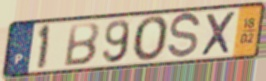1: (35, 23, 52, 72)
9: (101, 18, 132, 65)
B: (61, 21, 101, 68)
O: (132, 15, 171, 64)
S: (165, 11, 203, 62)
X: (199, 10, 237, 58)
